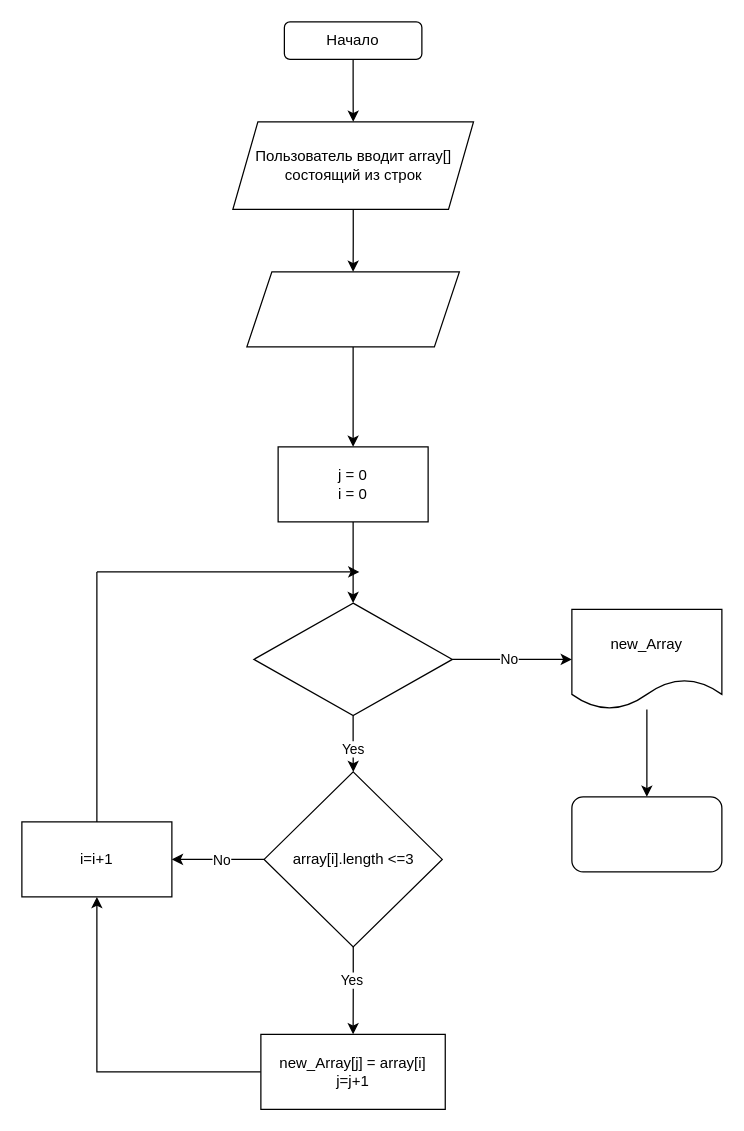
This 744x1131 diagram has some shape labels left out. The shapes that lost their labels are listed below. From the top down, each one's centre as x and y in pixels, then its label:
point 352,309: Создаем пустой массив new_Array[ ]
point 352,659: i < array.Lenght
point 646,834: Конец
